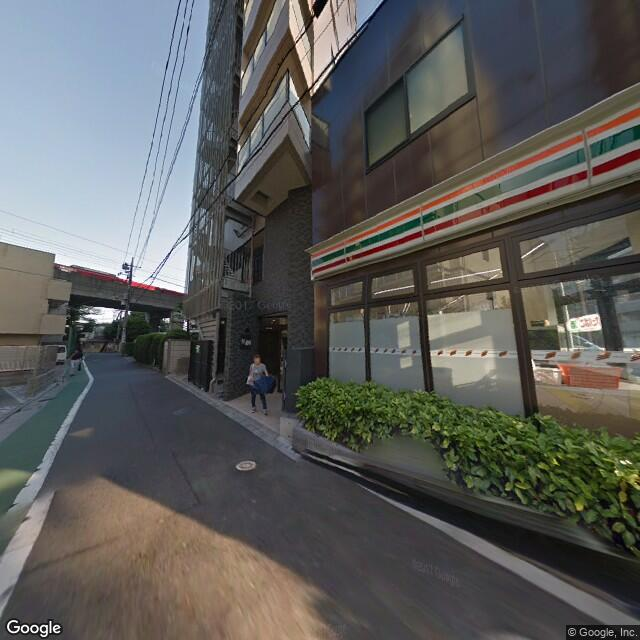7-eleven: (309, 98, 639, 283)
